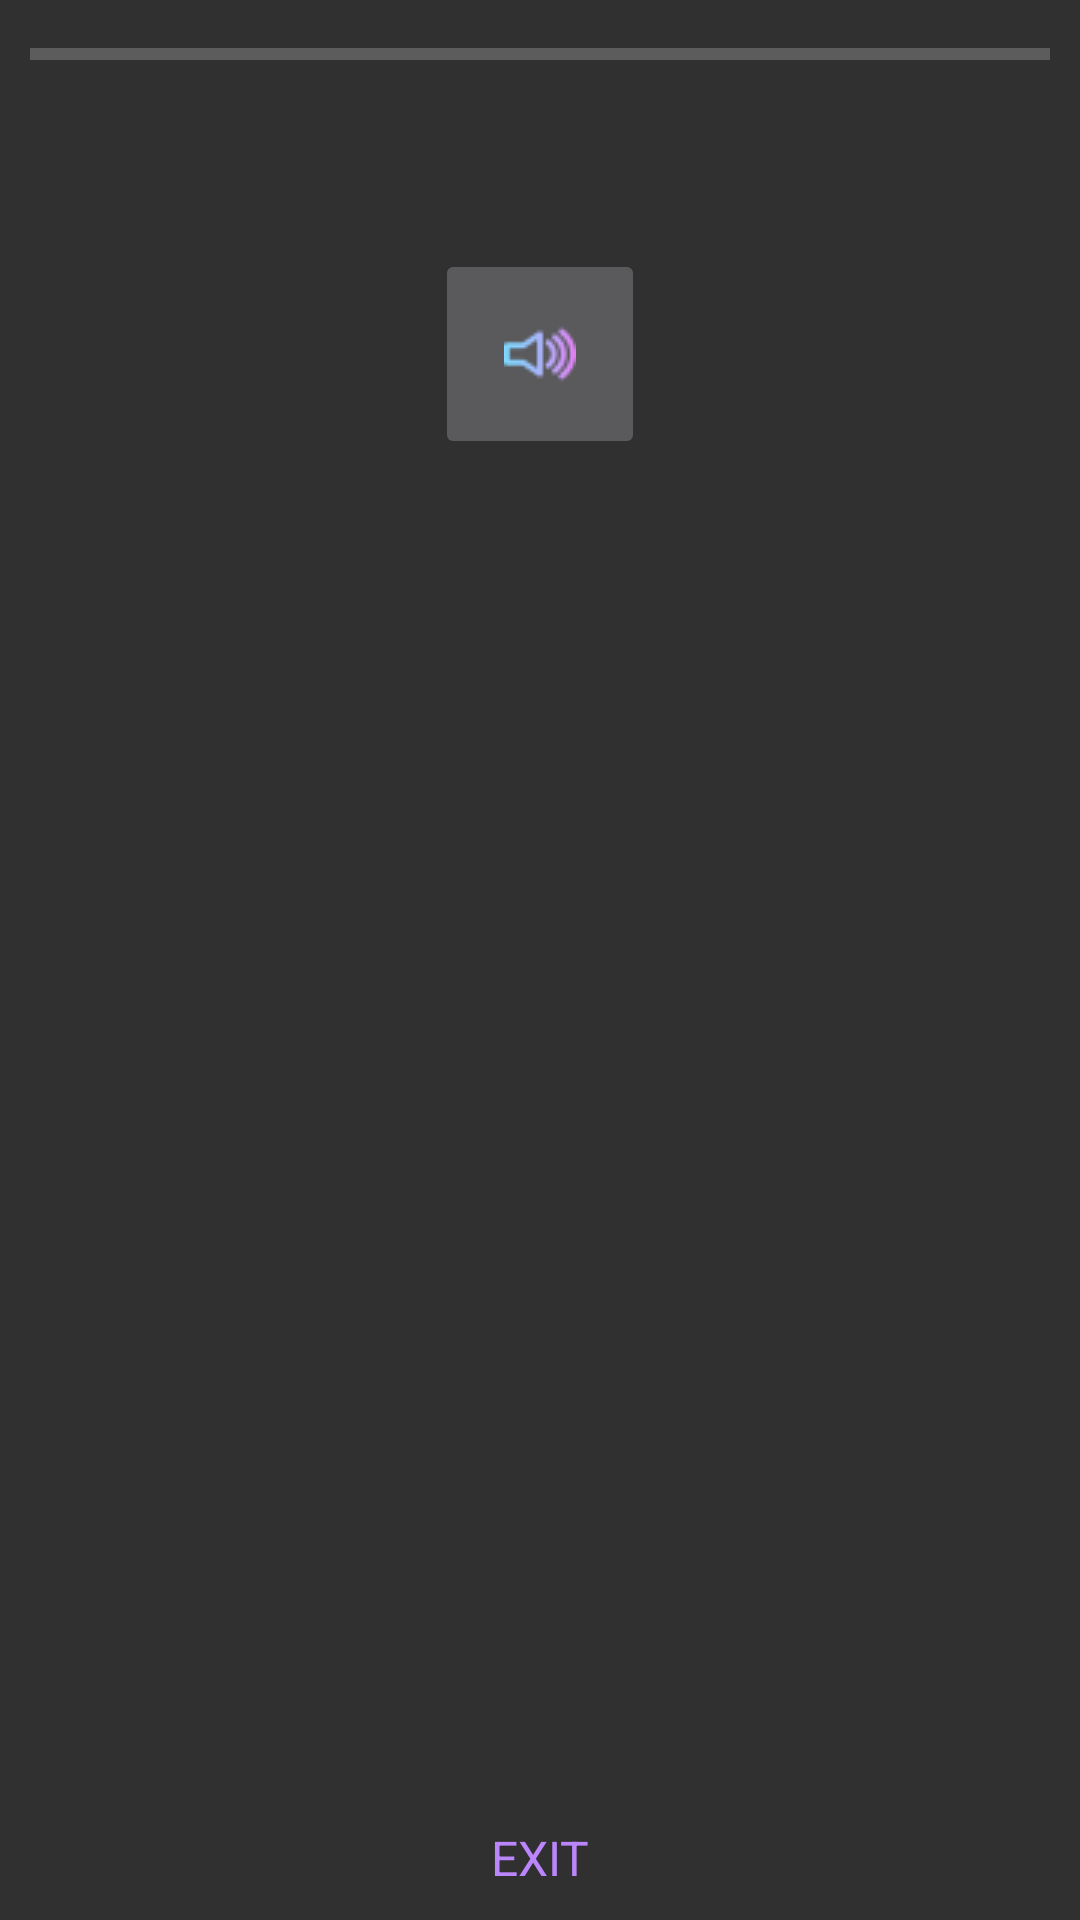

Icon click points for this 1080w x 1920h phone screenshot, format (x=x, y=y):
volume: (x=540, y=354)
